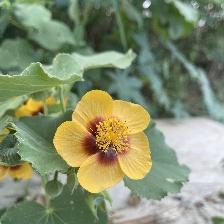indian mallow: (52, 90, 154, 197), (1, 159, 36, 181), (12, 97, 54, 114)
